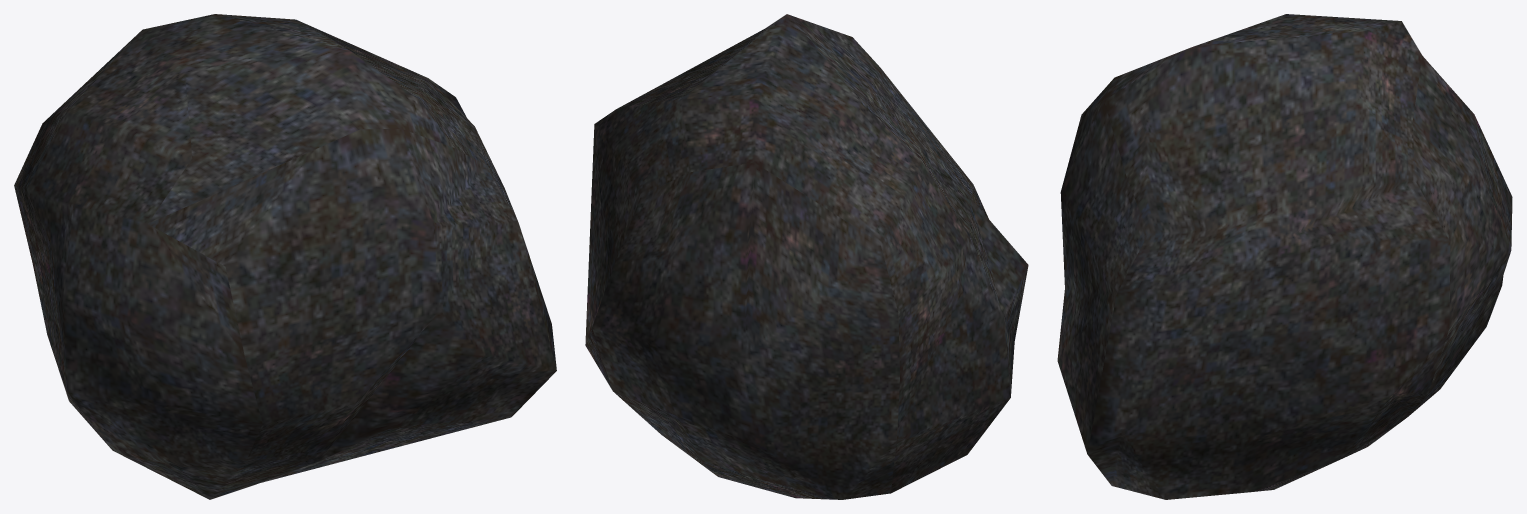
The model's file is asteroid_metal_medium_s02_l2.fbx.
3 views of the same model, side by side, from view 1: azimuth 30°, elevation 25°; view 2: azimuth 150°, elevation 25°; view 3: azimuth 270°, elevation 25° (orthographic). The views are drawn at different scales.
Visible parts, largest first — view 1: mesh_node; view 2: mesh_node; view 3: mesh_node.
Part boxes in pixels (x1,y1,x2,y2): mesh_node: (14,14,556,499); mesh_node: (585,14,1028,499); mesh_node: (1057,14,1512,499).
Bounding box in the file's own units: 73.28 × 73.1 × 66.64.
